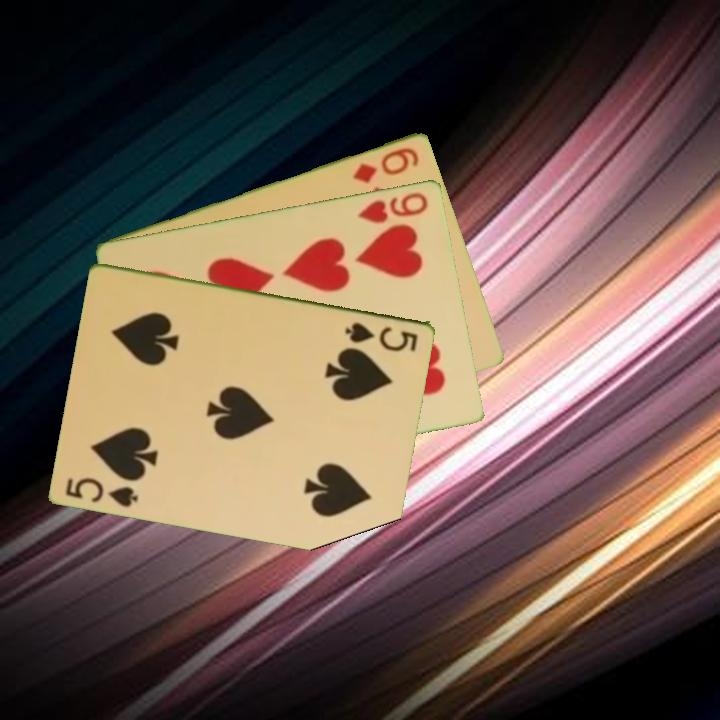5s: (62, 473, 142, 510), (342, 318, 421, 354)
6d: (349, 143, 422, 186)
9h: (354, 188, 431, 226)
